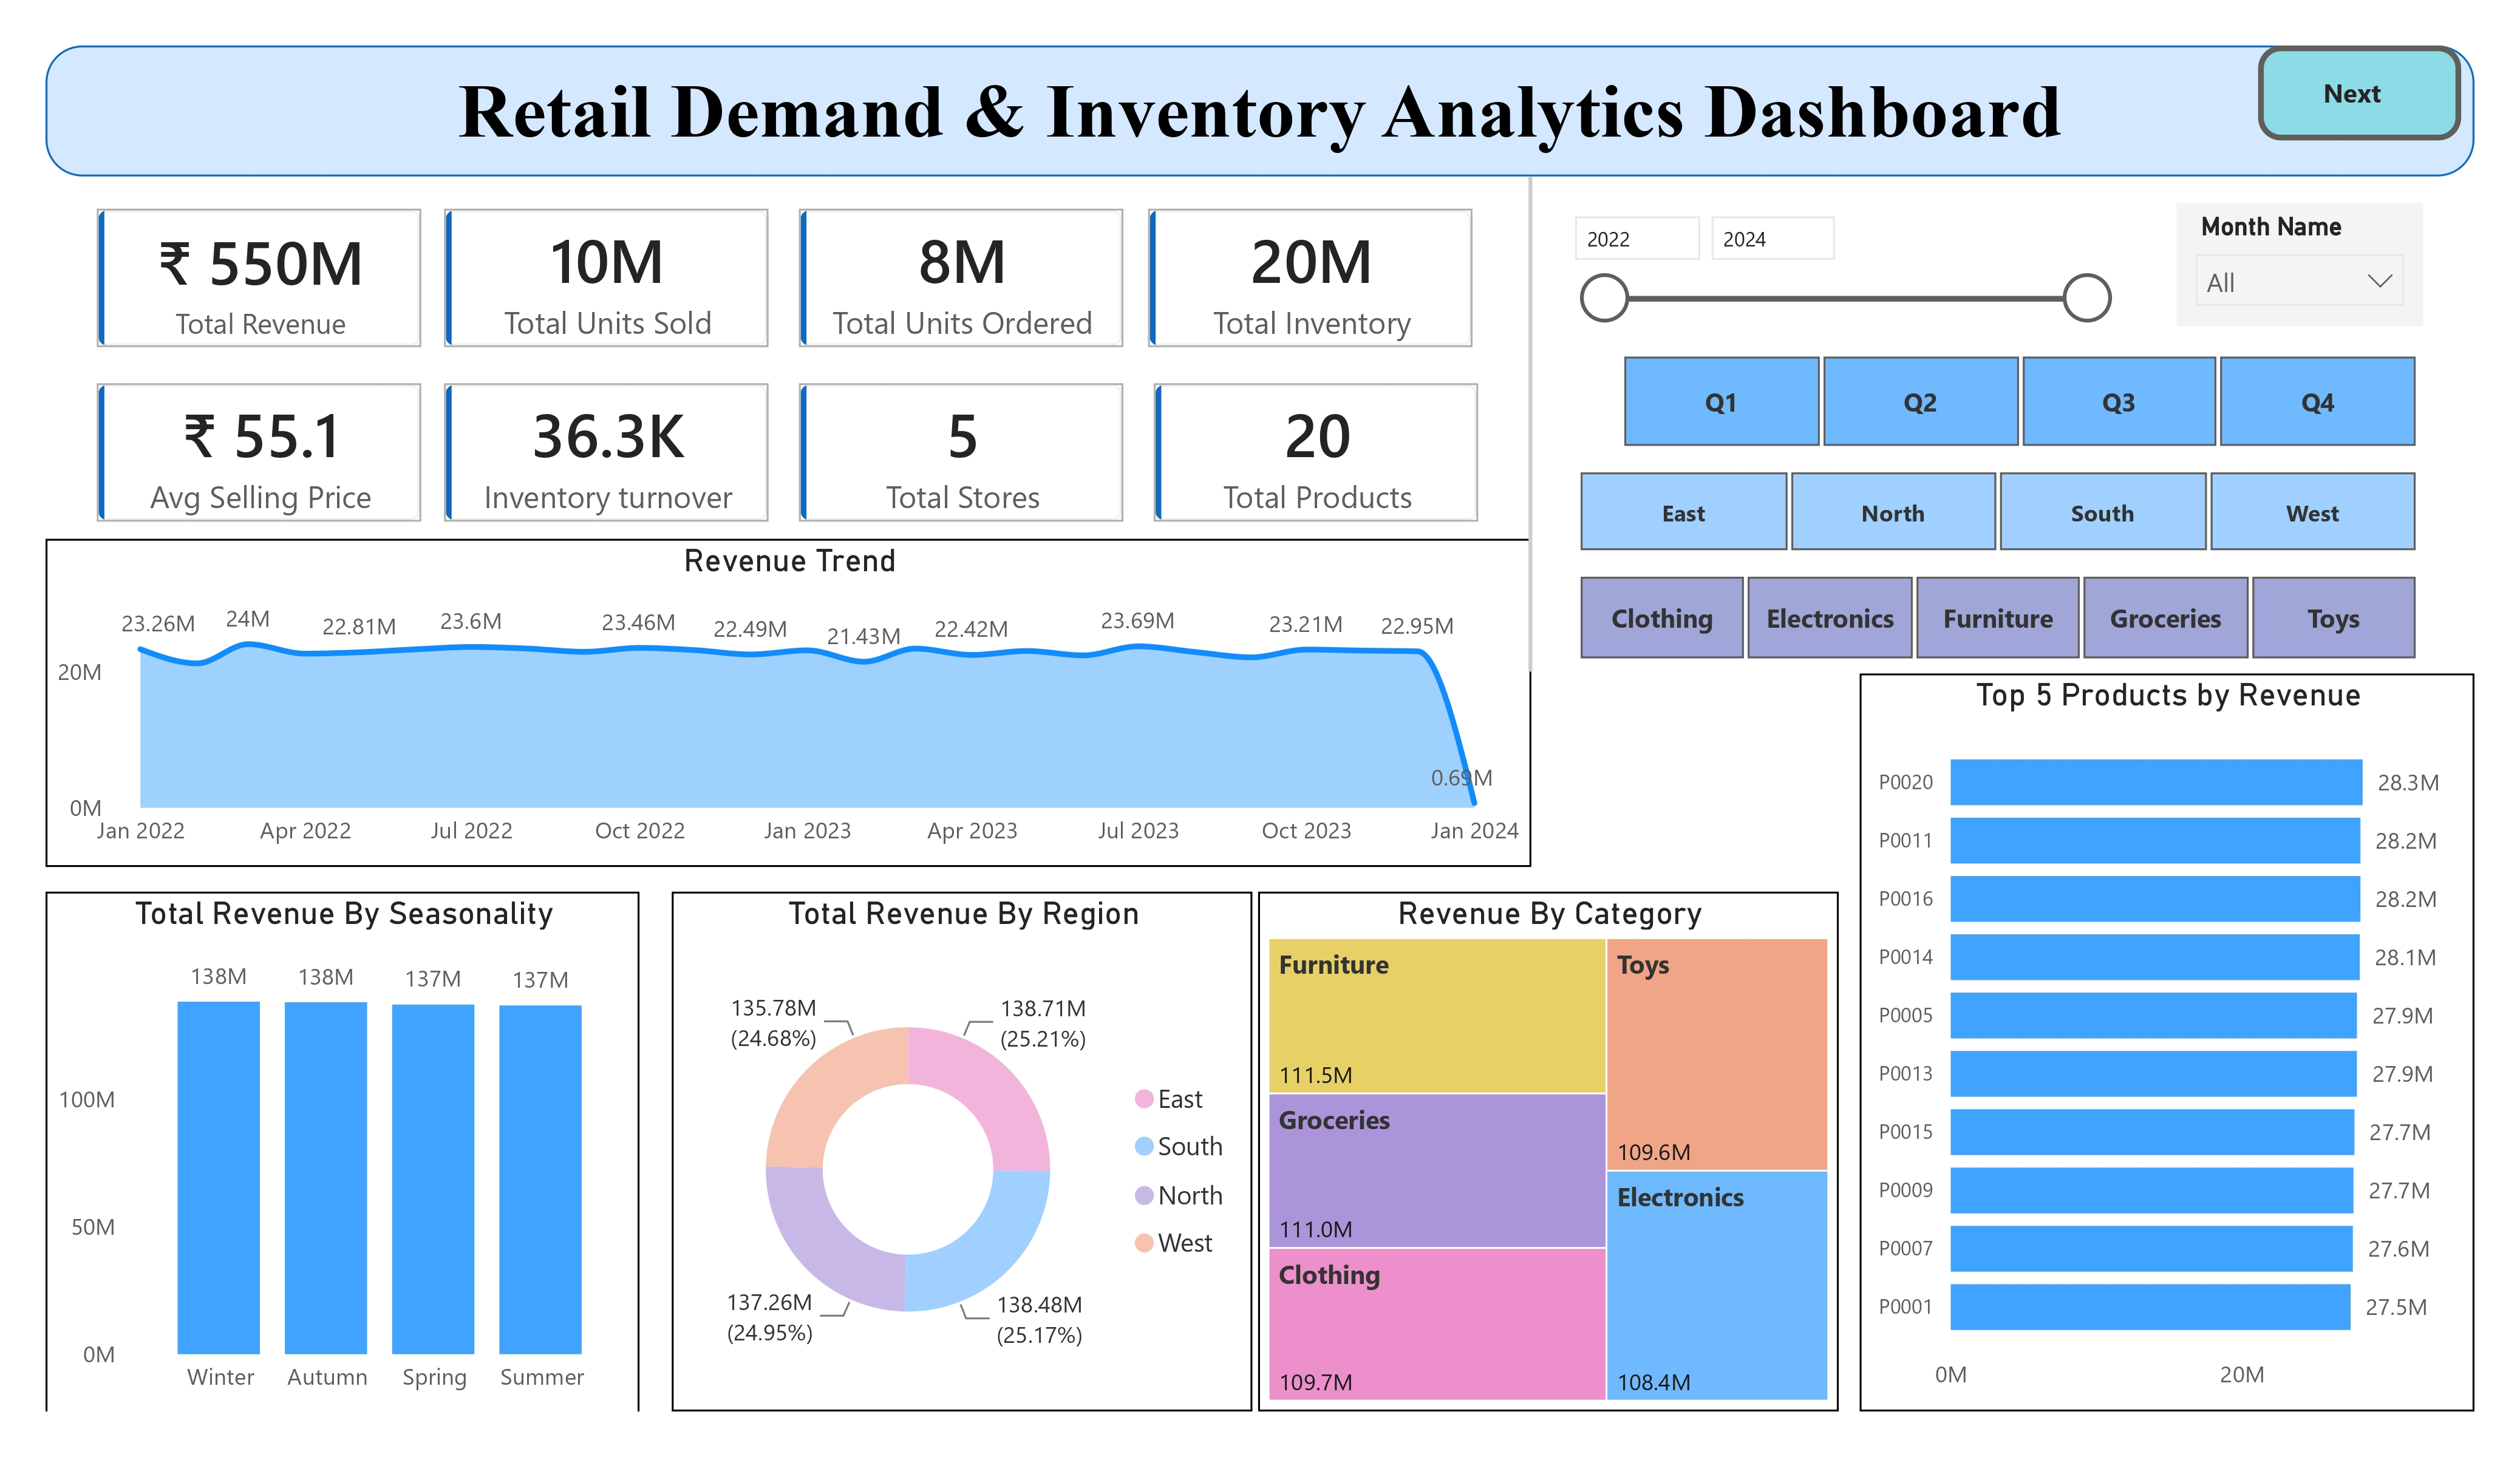

The page's visual inventory and layout, read from the dashboard file:
{"tool":"powerbi","page":{"name":"Executive Overview","canvas":[1280,720],"ordinal":0},"visuals":[{"type":"cardVisual","fields":{"Data":["Measures (2).Total_Revenue"]},"box":[9.9,69.3,205.3,107.6],"z":0},{"type":"cardVisual","fields":{"Data":["Measures (2).Total Units Sold"]},"box":[193,69.3,205.3,107.6],"z":1000},{"type":"cardVisual","fields":{"Data":["Measures (2).total Units Ordered"]},"box":[379.7,69.3,205.3,107.6],"z":2000},{"type":"cardVisual","fields":{"Data":["Measures (2).Total Inventory"]},"box":[564.1,69.3,205.3,107.6],"z":3000},{"type":"cardVisual","fields":{"Data":["Measures (2).Average Selling Price"]},"box":[9.9,160.8,205.3,107.6],"z":4000},{"type":"cardVisual","fields":{"Data":["Measures (2).Inventory turnover"]},"box":[193,160.8,205.3,107.6],"z":5000},{"type":"cardVisual","fields":{"Data":["Measures (2).Total Stores"]},"box":[379.7,160.8,205.3,107.6],"z":6000},{"type":"cardVisual","fields":{"Data":["Measures (2).Total Products"]},"box":[566.5,160.8,205.3,107.6],"z":7000},{"type":"shape","box":[0,0,1280.3,69.3],"z":8000},{"type":"lineChart","title":"Revenue Trend","fields":{"Y":["Measures (2).Total_Revenue"],"Category":["Date.Date.Variation.Date Hierarchy.Year","Date.Date.Variation.Date Hierarchy.Month"]},"box":[0,259.8,783,173.2],"z":9000},{"type":"donutChart","title":"Total Revenue By Region","fields":{"Category":["public fact_retail_inventory.region"],"Y":["Measures (2).Total_Revenue"]},"box":[330.2,446.3,305.7,273.9],"z":10000},{"type":"columnChart","title":"Total Revenue By Seasonality","fields":{"Category":["public fact_retail_inventory.seasonality"],"Y":["Measures (2).Total_Revenue"]},"box":[0,446,313.1,274.7],"z":11000},{"type":"clusteredBarChart","title":"Top 5 Products by Revenue","fields":{"Category":["public fact_retail_inventory.product_id"],"Y":["Measures (2).Total_Revenue"]},"box":[956.4,330.7,323.8,389.7],"z":12000},{"type":"slicer","fields":{"Values":["public fact_retail_inventory.region"]},"box":[783,217.7,489.8,55.7],"z":13000},{"type":"slicer","fields":{"Values":["public fact_retail_inventory.category"]},"box":[783,273.4,489.8,56.9],"z":14000},{"type":"slicer","fields":{"Values":["Date.Month Name"]},"box":[1123.2,82.9,129.9,65.6],"z":15000},{"type":"slicer","fields":{"Values":["Date.Quarter"]},"box":[806.5,157.1,466.3,60.6],"z":16000},{"type":"slicer","fields":{"Values":["Date.Year"]},"box":[792.9,80.4,304.3,68],"z":17000},{"type":"shape","box":[771.9,69.3,21,261],"z":18000},{"type":"treemap","title":"Revenue By Category","fields":{"Group":["public fact_retail_inventory.category"],"Values":["Measures (2).Total_Revenue"]},"box":[639.5,446,306,274.4],"z":19000},{"type":"actionButton","box":[1166.1,0,106.7,49.6],"z":20000},{"type":"textbox","box":[1188.5,11.2,54.6,27.3],"z":21000}]}

Visuals, with their boxes on the page's 1280x720 design canvas (x1, y1, x2, y2). These are canvas units, not pixel positions in the 2520x1457 screenshot, which may show the page scaled, cropped or inside an application window:
cardVisual - Measures (2).Total_Revenue: {"left": 10, "top": 69, "right": 215, "bottom": 177}
cardVisual - Measures (2).Total Units Sold: {"left": 193, "top": 69, "right": 398, "bottom": 177}
cardVisual - Measures (2).total Units Ordered: {"left": 380, "top": 69, "right": 585, "bottom": 177}
cardVisual - Measures (2).Total Inventory: {"left": 564, "top": 69, "right": 769, "bottom": 177}
cardVisual - Measures (2).Average Selling Price: {"left": 10, "top": 161, "right": 215, "bottom": 268}
cardVisual - Measures (2).Inventory turnover: {"left": 193, "top": 161, "right": 398, "bottom": 268}
cardVisual - Measures (2).Total Stores: {"left": 380, "top": 161, "right": 585, "bottom": 268}
cardVisual - Measures (2).Total Products: {"left": 566, "top": 161, "right": 772, "bottom": 268}
shape: {"left": 0, "top": 0, "right": 1280, "bottom": 69}
"Revenue Trend" lineChart: {"left": 0, "top": 260, "right": 783, "bottom": 433}
"Total Revenue By Region" donutChart: {"left": 330, "top": 446, "right": 636, "bottom": 720}
"Total Revenue By Seasonality" columnChart: {"left": 0, "top": 446, "right": 313, "bottom": 721}
"Top 5 Products by Revenue" clusteredBarChart: {"left": 956, "top": 331, "right": 1280, "bottom": 720}
slicer - public fact_retail_inventory.region: {"left": 783, "top": 218, "right": 1273, "bottom": 273}
slicer - public fact_retail_inventory.category: {"left": 783, "top": 273, "right": 1273, "bottom": 330}
slicer - Date.Month Name: {"left": 1123, "top": 83, "right": 1253, "bottom": 148}
slicer - Date.Quarter: {"left": 806, "top": 157, "right": 1273, "bottom": 218}
slicer - Date.Year: {"left": 793, "top": 80, "right": 1097, "bottom": 148}
shape: {"left": 772, "top": 69, "right": 793, "bottom": 330}
"Revenue By Category" treemap: {"left": 640, "top": 446, "right": 946, "bottom": 720}
actionButton: {"left": 1166, "top": 0, "right": 1273, "bottom": 50}
textbox: {"left": 1188, "top": 11, "right": 1243, "bottom": 38}
